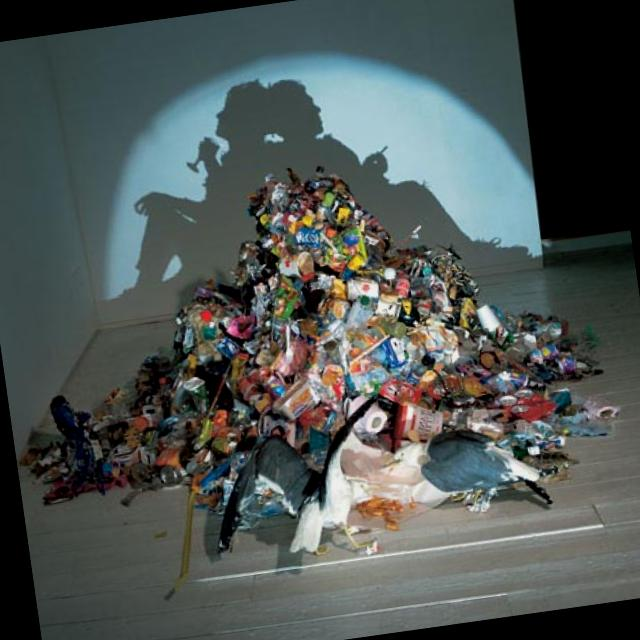garbage: (3, 129, 616, 565)
